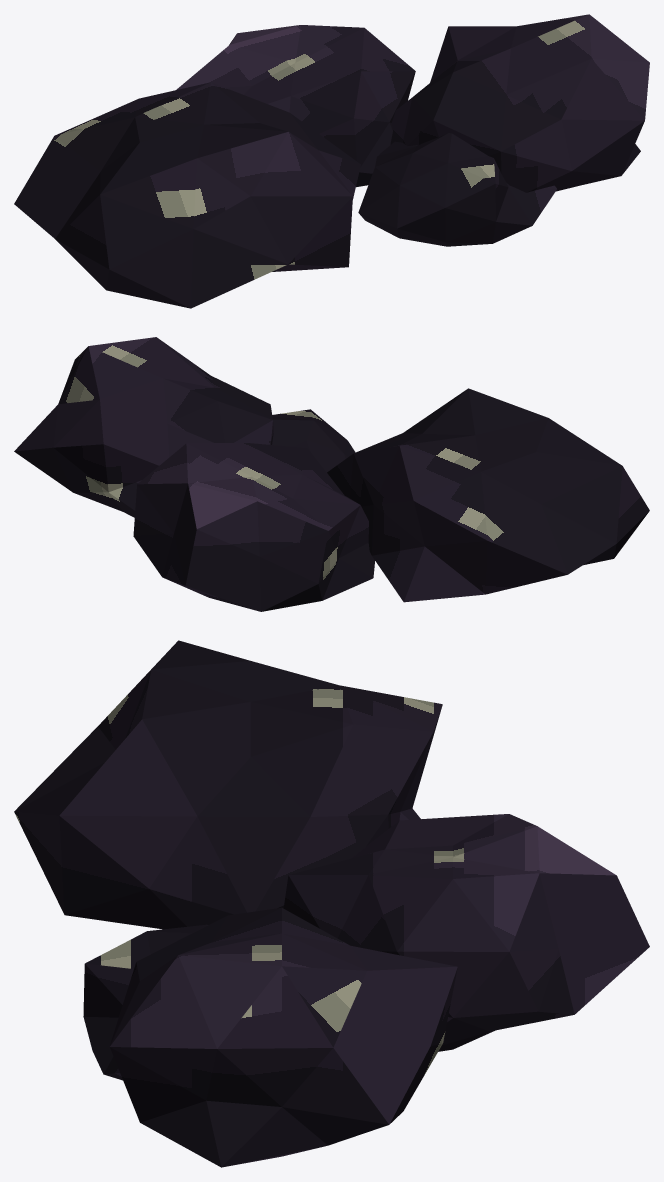
File: CORR_Organic_Growth_Small.glb
3 views of the same model, one above another, from view 1: azimuth 30°, elevation 25°; view 2: azimuth 150°, elevation 25°; view 3: azimuth 270°, elevation 25° (orthographic). The views are drawn at different scales.
Visible parts, largest first — view 1: CORR_Organic_Growth_Small_Mesh; view 2: CORR_Organic_Growth_Small_Mesh; view 3: CORR_Organic_Growth_Small_Mesh.
Part boxes in pixels (box(x1,y1,x2,y2)): CORR_Organic_Growth_Small_Mesh: box(14, 14, 649, 308); CORR_Organic_Growth_Small_Mesh: box(14, 337, 649, 611); CORR_Organic_Growth_Small_Mesh: box(14, 640, 649, 1167).
Size of the model in its own units: 0.4905 by 0.122 by 0.3281.
Materials: 1 (1 with a texture image).
